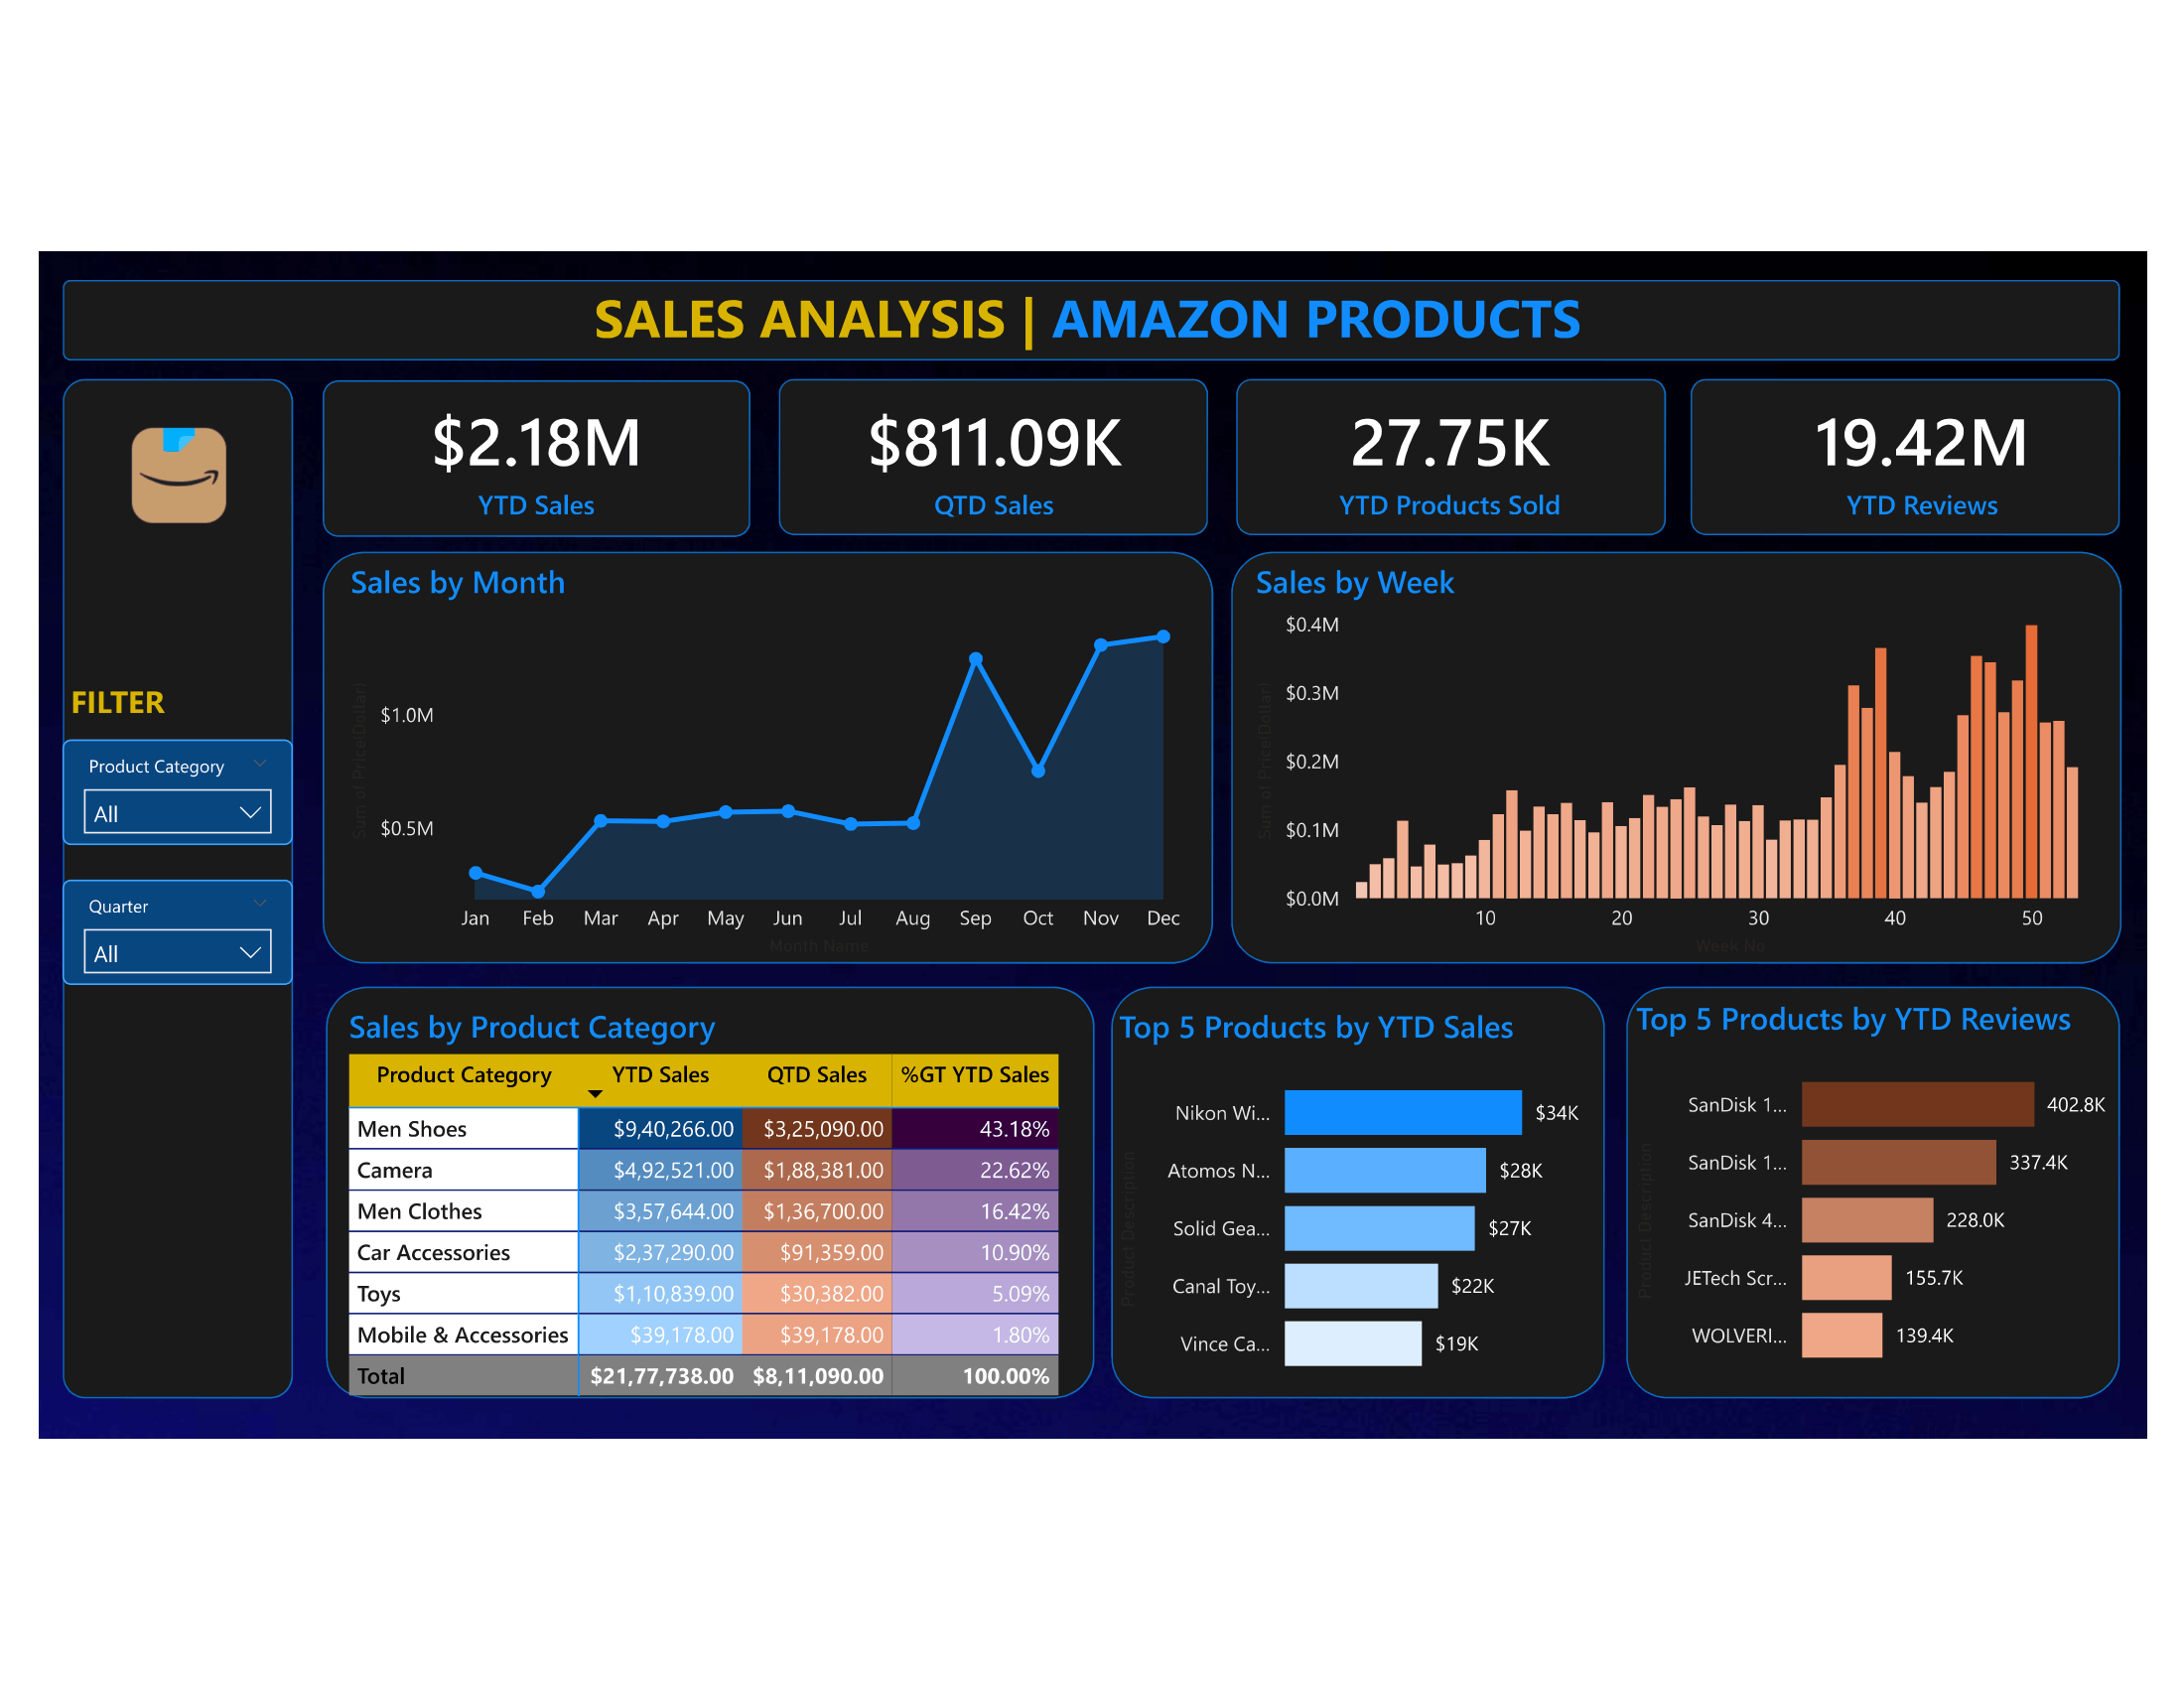

What the dashboard file says about the page in this screenshot:
{"tool":"powerbi","page":{"name":"Page 1","canvas":[1280,720],"ordinal":0},"visuals":[{"type":"shape","box":[14.5,16.9,1249.9,49.5],"z":0},{"type":"shape","box":[172.3,78.1,260,95],"z":0,"group":"g1"},{"type":"textbox","box":[331.8,12.1,615.3,59.1],"z":1000},{"type":"card","fields":{"Values":["Amazon_Data.YTD Sales"]},"box":[208.5,82.9,188.2,83.2],"z":1000,"group":"g1"},{"type":"shape","box":[449.5,76.9,260.6,95.3],"z":2000,"group":"g1"},{"type":"shape","box":[14.3,77.1,140,618.6],"z":2000},{"type":"group","id":"g1","title":"Group 1","box":[172.3,76.9,1092.3,96.2],"z":3000},{"type":"shape","box":[727.3,76.9,260.6,95.3],"z":3000,"group":"g1"},{"type":"shape","box":[1003.5,76.9,260.6,95.3],"z":4000,"group":"g1"},{"type":"shape","box":[172.3,182.3,540.8,250],"z":4000},{"type":"card","fields":{"Values":["Amazon_Data.QTD Sales"]},"box":[486,82.9,188.2,83.2],"z":5000,"group":"g1"},{"type":"areaChart","title":"Sales by Month","fields":{"Category":["Calendar Table.Month Name"],"Y":["Sum(Amazon_Data.Price(Dollar))"]},"box":[184,187,519,245],"z":5000},{"type":"card","fields":{"Values":["Amazon_Data.YTD Products Sold"]},"box":[763.5,82.9,188.2,83.2],"z":6000,"group":"g1"},{"type":"shape","box":[723.8,182.3,540.8,250],"z":6000},{"type":"card","fields":{"Values":["Amazon_Data.YTD Reviews"]},"box":[1050.6,82.9,188.2,83.2],"z":7000,"group":"g1"},{"type":"columnChart","title":"Sales by Week","fields":{"Category":["Calendar Table.Week No"],"Y":["Sum(Amazon_Data.Price(Dollar))"]},"box":[734,187,530,245],"z":7000},{"type":"shape","box":[174.3,445.7,467.1,250],"z":8000},{"type":"pivotTable","title":"Sales by Product Category","fields":{"Rows":["Amazon_Data.Product Category"],"Values":["Amazon_Data.YTD Sales1","Amazon_Data.QTD Sales","Amazon_Data.YTD Sales"]},"box":[183.4,457.2,446.4,249.7],"z":9000},{"type":"shape","box":[651.4,445.7,300,250],"z":10000},{"type":"shape","box":[964.3,445.7,300,250],"z":11000},{"type":"barChart","title":"Top 5 Products by YTD Sales","fields":{"Category":["Amazon_Data.Product Description"],"Y":["Amazon_Data.YTD Sales"]},"box":[651,457,300,239],"z":12000},{"type":"barChart","title":"Top 5 Products by YTD Reviews","fields":{"Category":["Amazon_Data.Product Description"],"Y":["Amazon_Data.YTD Reviews"]},"box":[965,452,300,239],"z":13000},{"type":"slicer","fields":{"Values":["Amazon_Data.Product Category"]},"box":[14.5,295.6,139.9,63.9],"z":14000},{"type":"slicer","fields":{"Values":["Calendar Table.Date.Variation.Date Hierarchy.Quarter"]},"box":[14.5,381.2,139.9,63.9],"z":15000},{"type":"textbox","box":[14.5,254.6,139.9,41],"z":16000},{"type":"image","box":[35,97.7,100.1,76],"z":17000}]}

Visuals, with their boxes on the page's 1280x720 design canvas (x1, y1, x2, y2). These are canvas units, not pixel positions in the 2184x1688 screenshot, which may show the page scaled, cropped or inside an application window:
shape: 14/17/1264/66
shape: 172/78/432/173
textbox: 332/12/947/71
card - Amazon_Data.YTD Sales: 208/83/397/166
shape: 450/77/710/172
shape: 14/77/154/696
"Group 1" group: 172/77/1265/173
shape: 727/77/988/172
shape: 1004/77/1264/172
shape: 172/182/713/432
card - Amazon_Data.QTD Sales: 486/83/674/166
"Sales by Month" areaChart: 184/187/703/432
card - Amazon_Data.YTD Products Sold: 764/83/952/166
shape: 724/182/1265/432
card - Amazon_Data.YTD Reviews: 1051/83/1239/166
"Sales by Week" columnChart: 734/187/1264/432
shape: 174/446/641/696
"Sales by Product Category" pivotTable: 183/457/630/707
shape: 651/446/951/696
shape: 964/446/1264/696
"Top 5 Products by YTD Sales" barChart: 651/457/951/696
"Top 5 Products by YTD Reviews" barChart: 965/452/1265/691
slicer - Amazon_Data.Product Category: 14/296/154/360
slicer - Calendar Table.Date.Variation.Date Hierarchy.Quarter: 14/381/154/445
textbox: 14/255/154/296
image: 35/98/135/174
